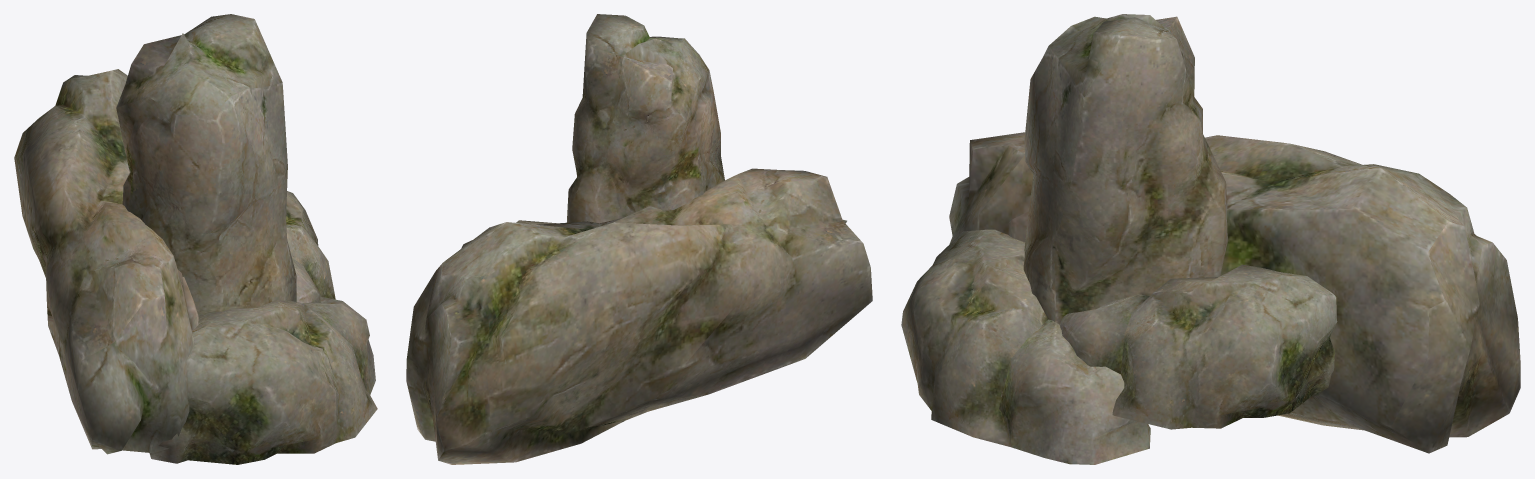
The model's file is m_shitou_016.FBX.
3 views of the same model, side by side, from view 1: azimuth 30°, elevation 25°; view 2: azimuth 150°, elevation 25°; view 3: azimuth 270°, elevation 25° (orthographic). The views are drawn at different scales.
Parts seen in each view (by area): view 1: m_shitou_016; view 2: m_shitou_016; view 3: m_shitou_016.
Part boxes in pixels (box(x1,y1,x2,y2)): m_shitou_016: box(14, 14, 377, 464); m_shitou_016: box(406, 14, 872, 464); m_shitou_016: box(901, 14, 1520, 464).
Size of the model in its own units: 244 by 269 by 363.
